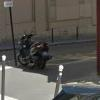Motorcycle: (15, 28, 52, 80)
